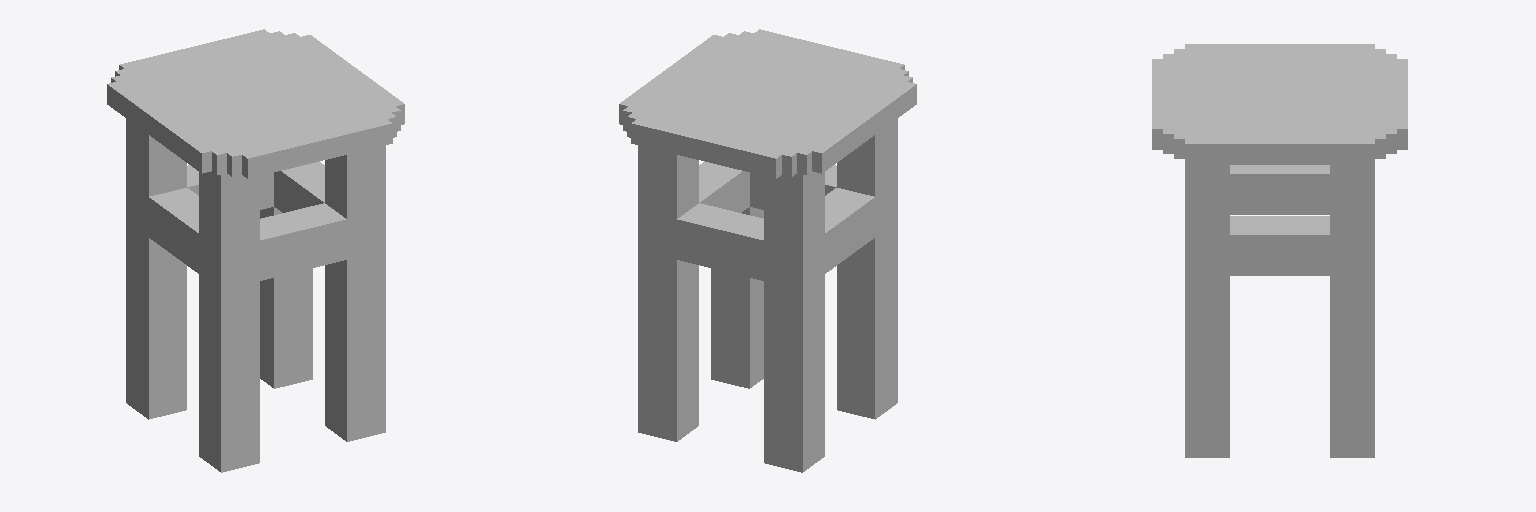
File: stool.obj
The picture shows the model from 3 angles: view 1: azimuth 30°, elevation 25°; view 2: azimuth 150°, elevation 25°; view 3: azimuth 270°, elevation 25°; orthographic projection.
Size of the model in its own units: 21 by 32 by 23.